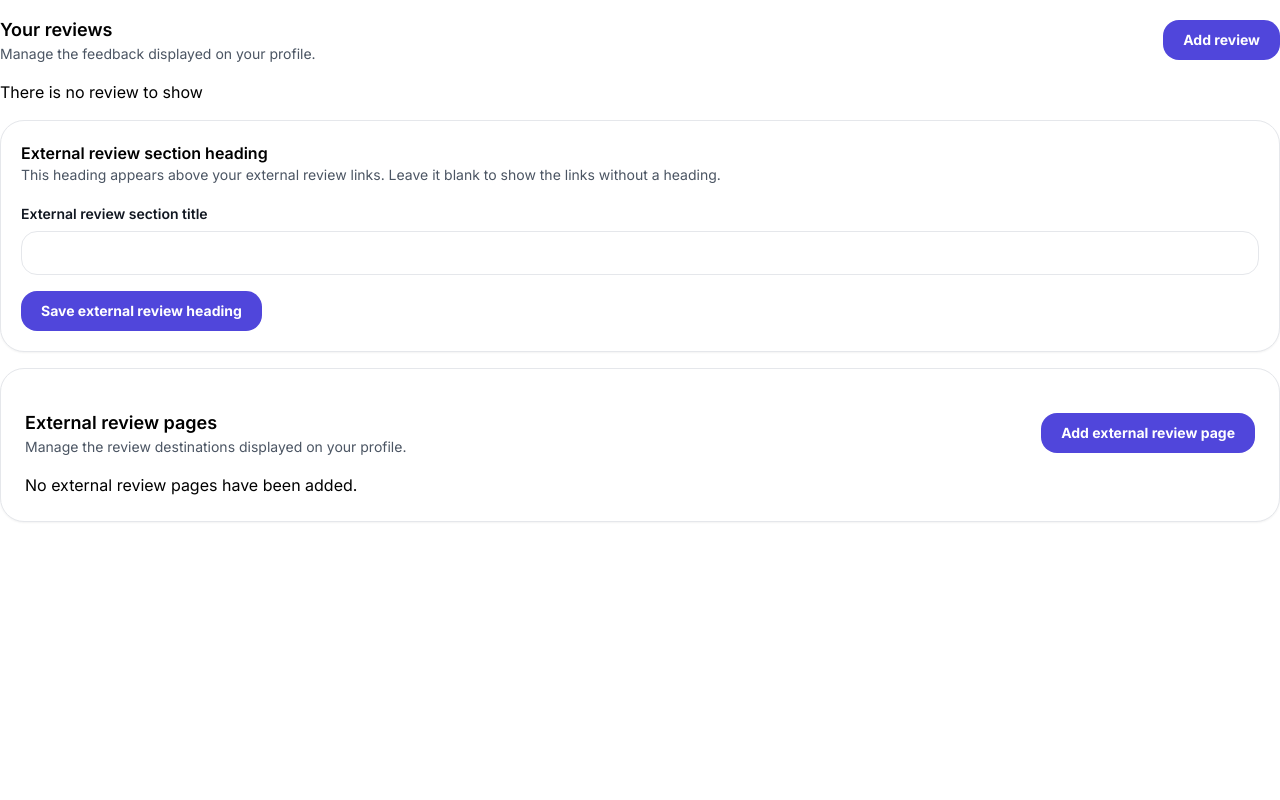
Test: ReviewManager › preserves a review draft when its Action fails
Click the button "Add review" at (1222, 40), box x1=1163 y1=20 x2=1279 y2=60
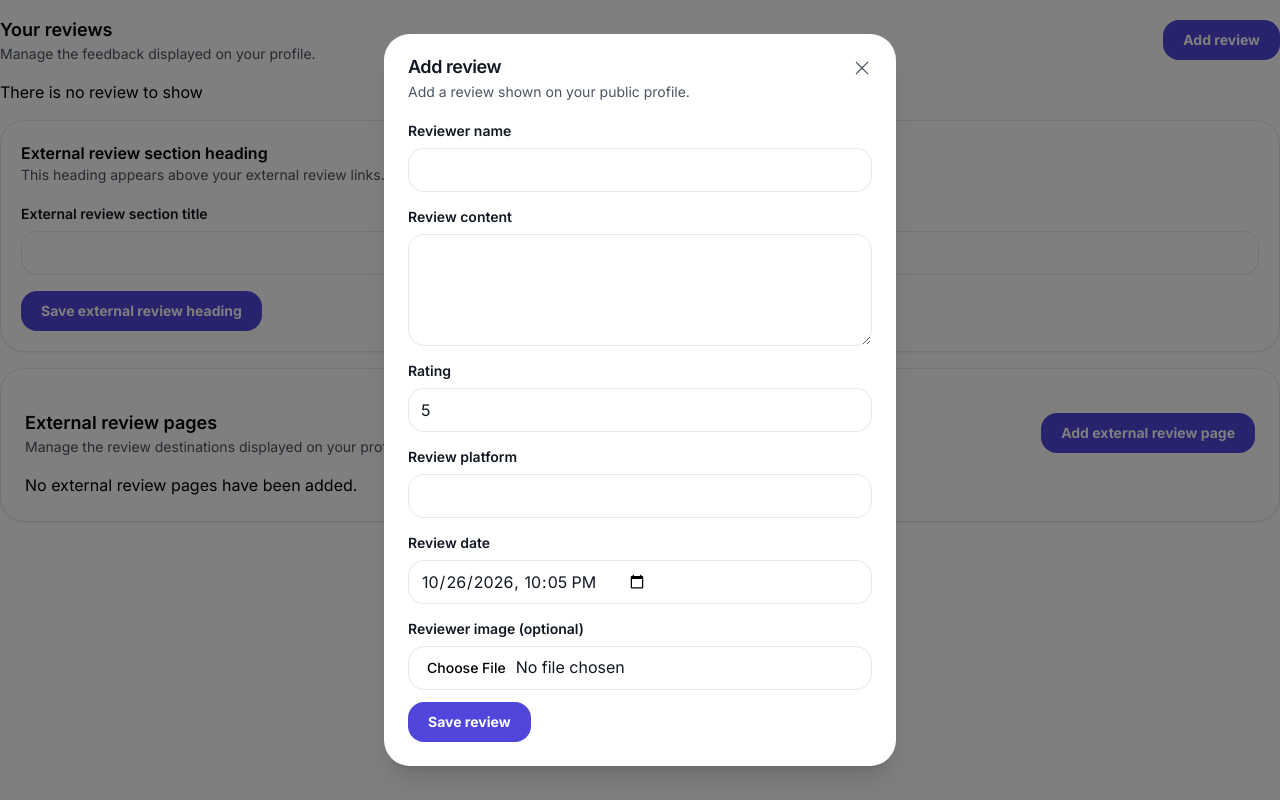
Type "Patient" into the field labelled "Reviewer name" at (640, 170), box x1=408 y1=148 x2=872 y2=192
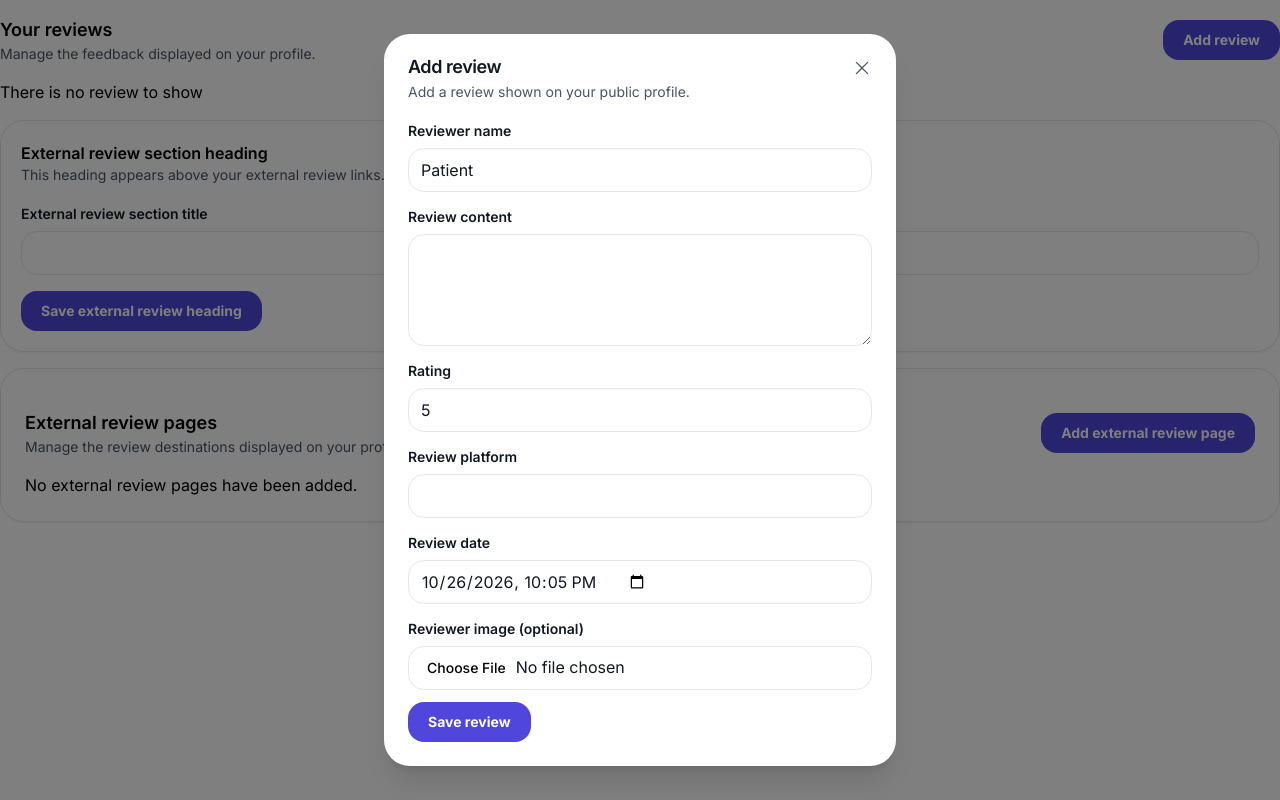
Type "A wonderful and thoughtful appointment." into the text box labelled "Review content" at (640, 290), box x1=408 y1=234 x2=872 y2=346
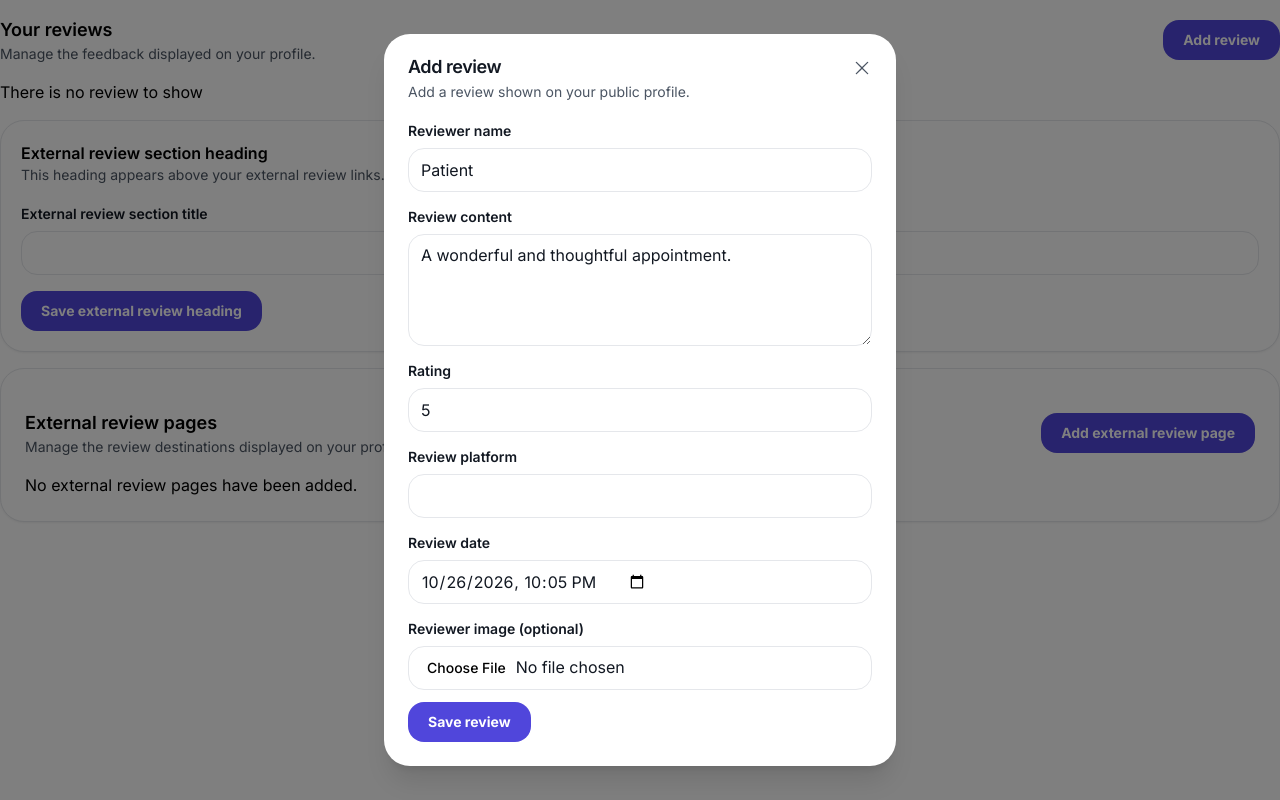
Type "Google" into the field labelled "Review platform" at (640, 496), box x1=408 y1=474 x2=872 y2=518
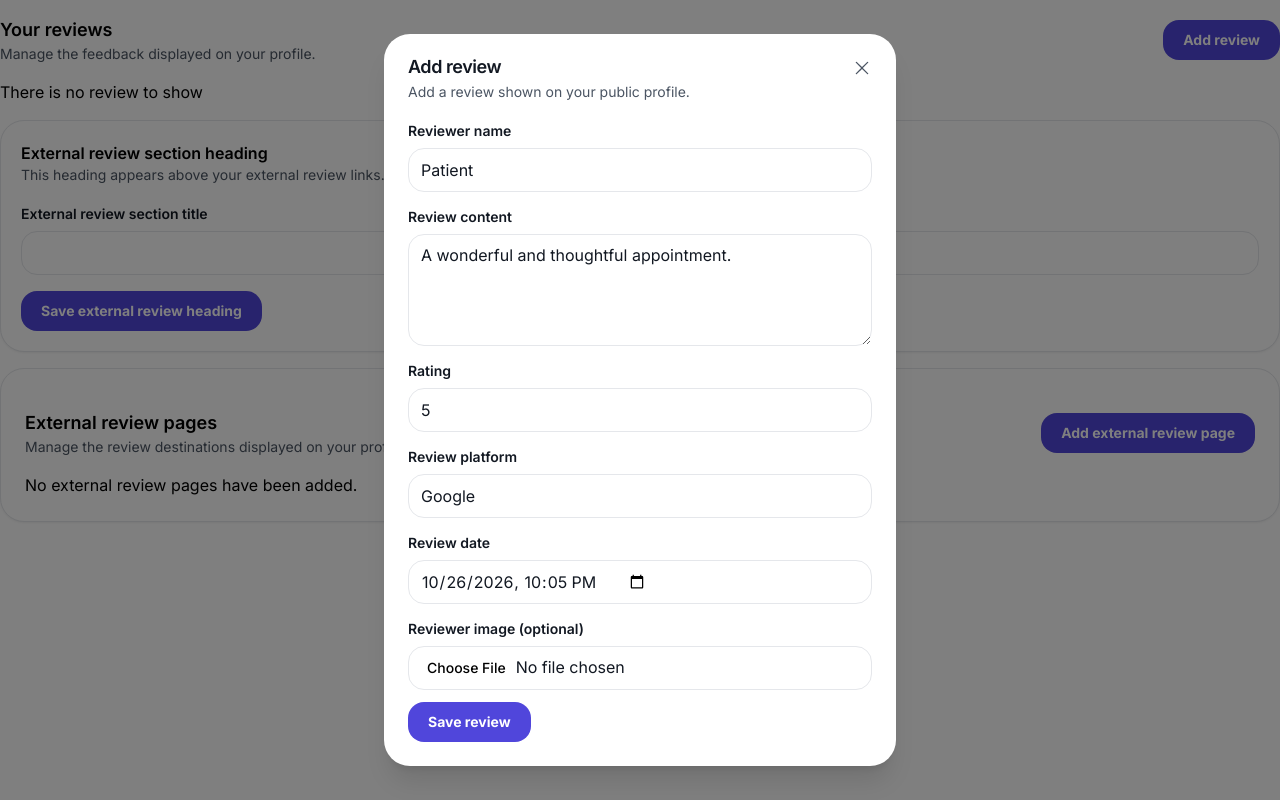
Click the button "Save review" at (469, 722), box x1=408 y1=702 x2=531 y2=742
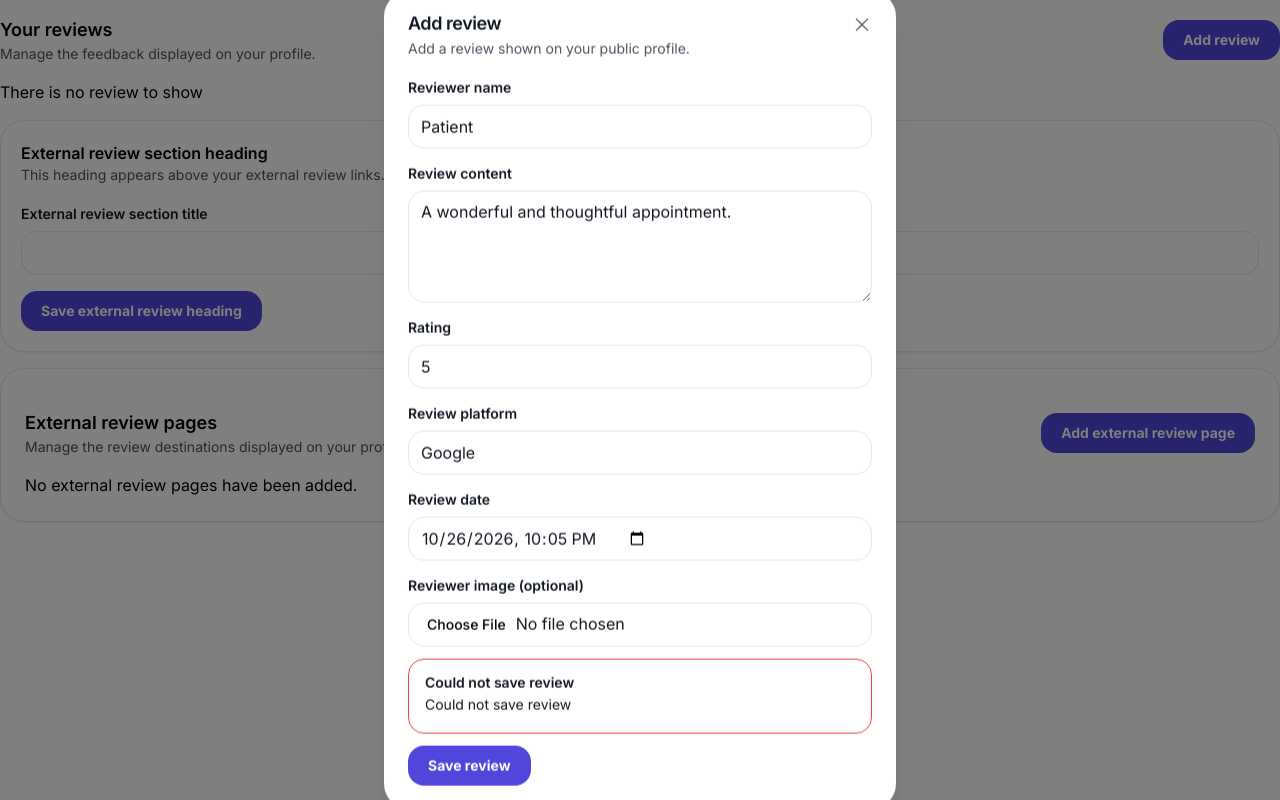
Now the message "Could not save review Could not save review" is shown, box x1=408 y1=659 x2=872 y2=733
